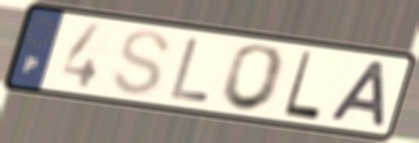4: (58, 19, 105, 93)
A: (325, 58, 389, 131)
L: (280, 48, 323, 123), (167, 35, 213, 105)
O: (217, 41, 291, 114)
S: (108, 27, 174, 99)
